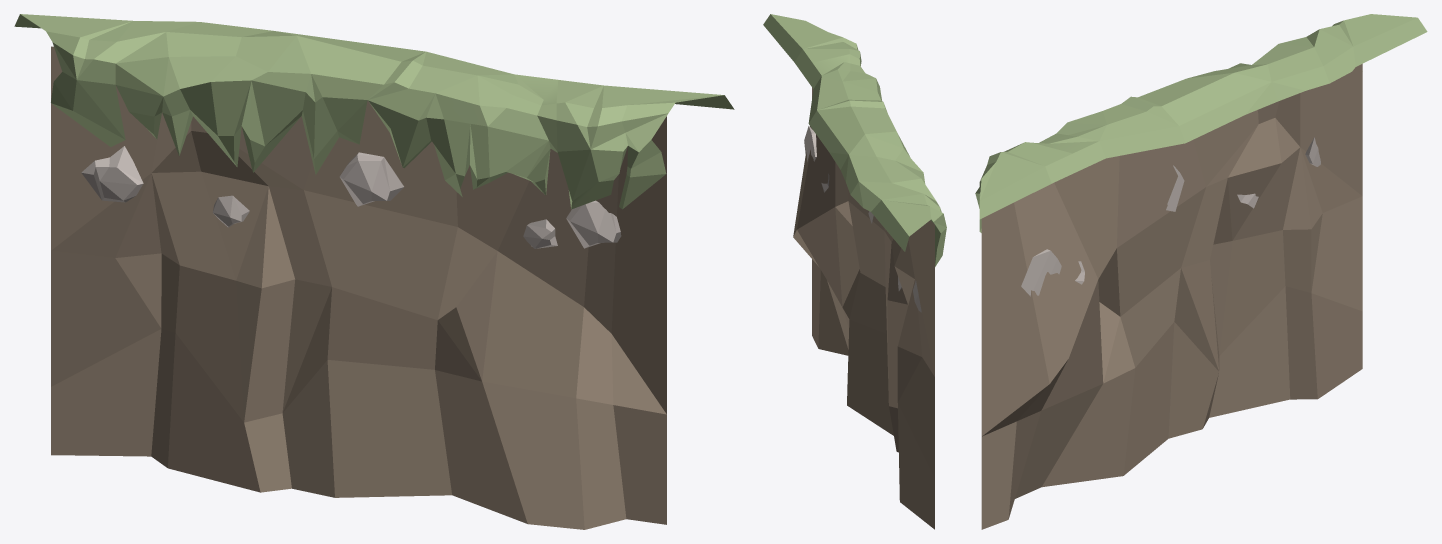
Rendered from ER_Terrain_1x1_GrassDiagonal_001_A2.fbx.
The picture shows the model from 3 angles, left to right: view 1: azimuth 30°, elevation 25°; view 2: azimuth 150°, elevation 25°; view 3: azimuth 270°, elevation 25°; orthographic projection. The views are drawn at different scales.
Parts seen in each view (by area): view 1: ER_Terrain_1x1_GrassDiagonal_001_A2; view 2: ER_Terrain_1x1_GrassDiagonal_001_A2; view 3: ER_Terrain_1x1_GrassDiagonal_001_A2.
Part boxes in pixels (<box>): ER_Terrain_1x1_GrassDiagonal_001_A2: <box>14,14,734,529</box>; ER_Terrain_1x1_GrassDiagonal_001_A2: <box>763,14,946,529</box>; ER_Terrain_1x1_GrassDiagonal_001_A2: <box>975,14,1427,529</box>.
Bounding box in the file's own units: 1.17 × 1.06 × 1.19.
